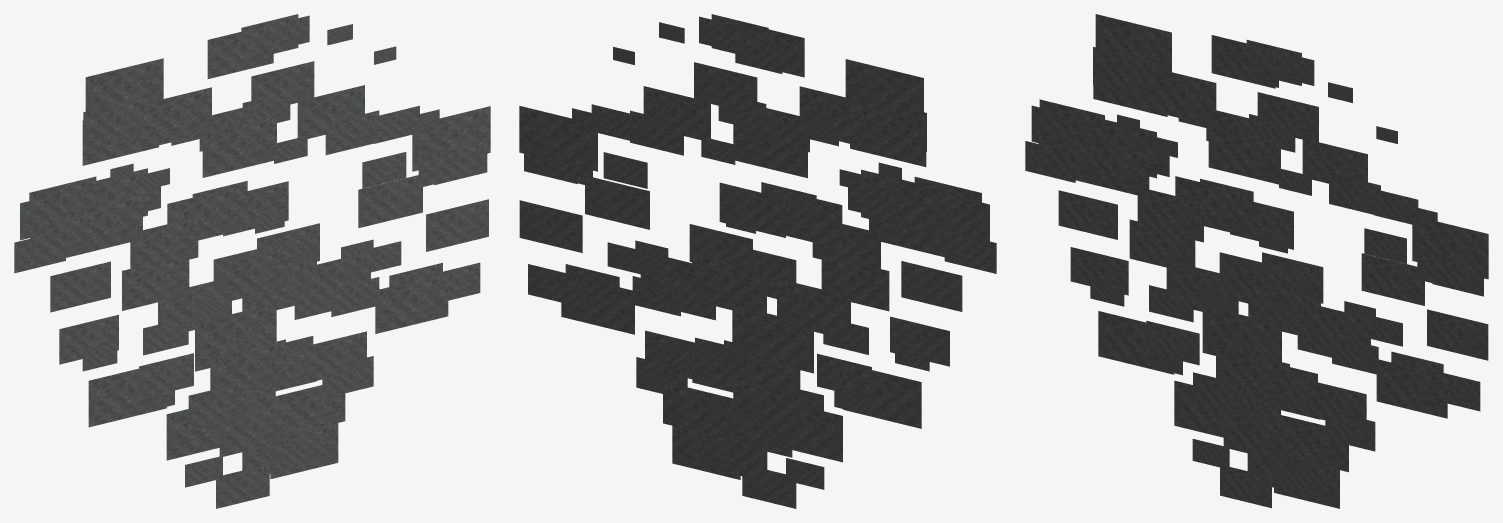
Rendered from LICHEN_local.glb.
3 views of the same model, side by side, from view 1: azimuth 30°, elevation 25°; view 2: azimuth 150°, elevation 25°; view 3: azimuth 330°, elevation 25° (orthographic). The views are drawn at different scales.
Visible parts, largest first — view 1: Lichen_Crust_Plane_Decals_NoCollision; view 2: Lichen_Crust_Plane_Decals_NoCollision; view 3: Lichen_Crust_Plane_Decals_NoCollision.
Boxes of the visible parts, x1,y1,x2,y2 form: Lichen_Crust_Plane_Decals_NoCollision: (14, 14, 490, 508); Lichen_Crust_Plane_Decals_NoCollision: (519, 14, 996, 508); Lichen_Crust_Plane_Decals_NoCollision: (1025, 14, 1488, 508).
Size of the model in its own units: 1.1 by 1.05 by 0.00775.
1 material, 1 textured.
